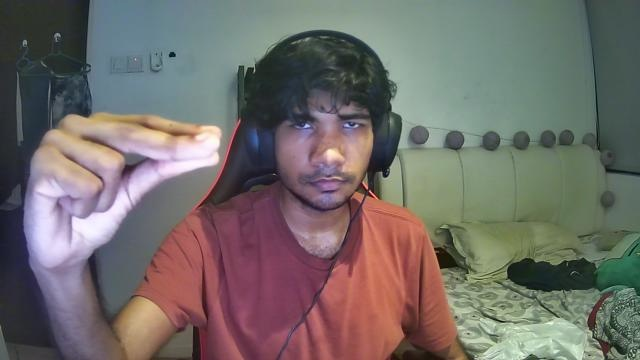No: (22, 111, 222, 272)
